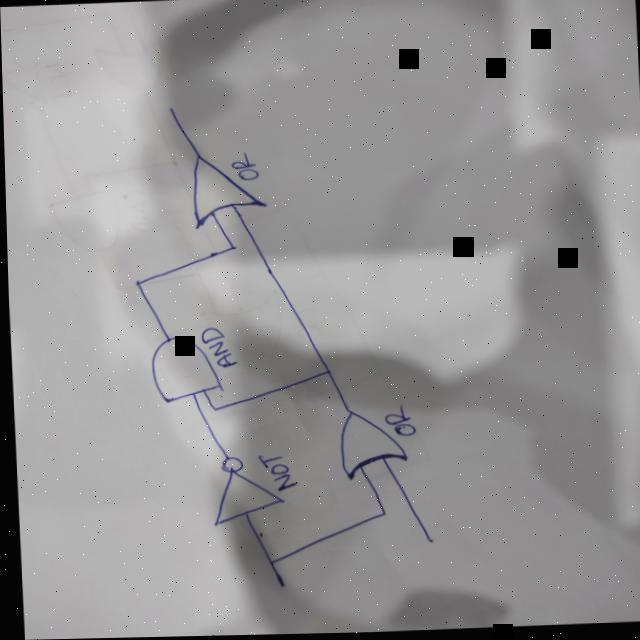junction: (125, 275, 150, 293), (316, 366, 334, 378), (371, 508, 386, 520), (202, 404, 219, 414), (224, 241, 237, 254), (260, 558, 271, 566)
terminal: (162, 104, 178, 118), (418, 535, 431, 547), (273, 580, 282, 589)
text: (253, 453, 295, 493), (196, 326, 234, 370), (378, 404, 414, 440), (230, 155, 256, 183)
